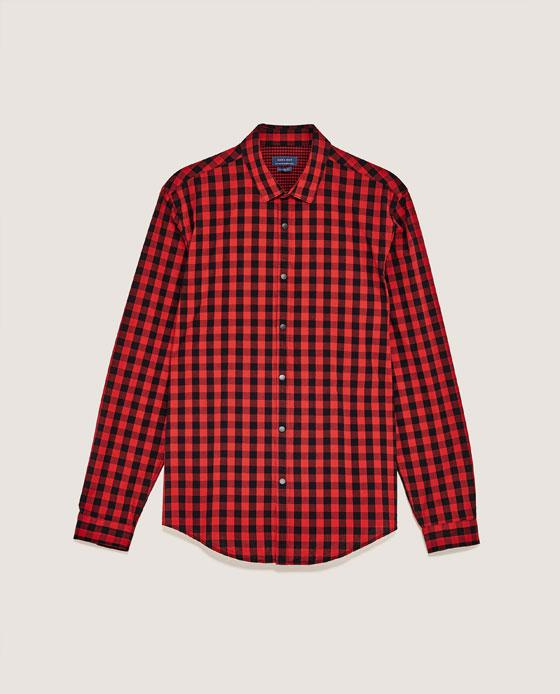teeshirt: (69, 122, 480, 577)
